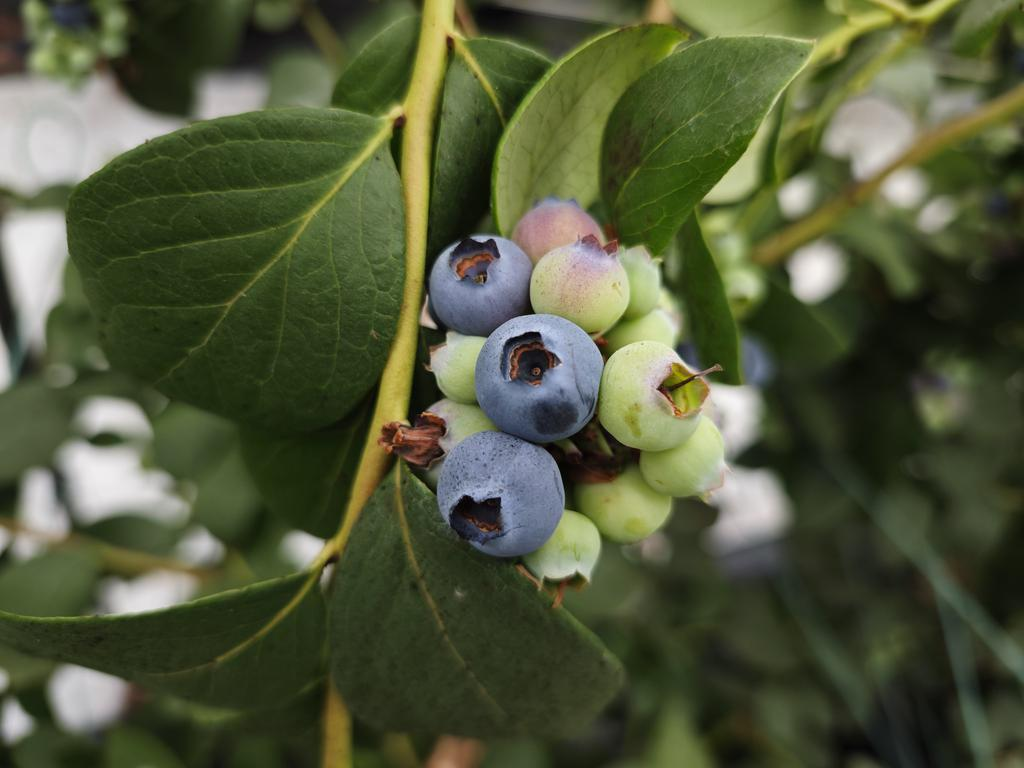RipeBlueBerry: (472, 310, 604, 444), (435, 430, 566, 561), (425, 232, 531, 334)
UnripeBlueBerry: (599, 338, 711, 453), (532, 233, 633, 330)
